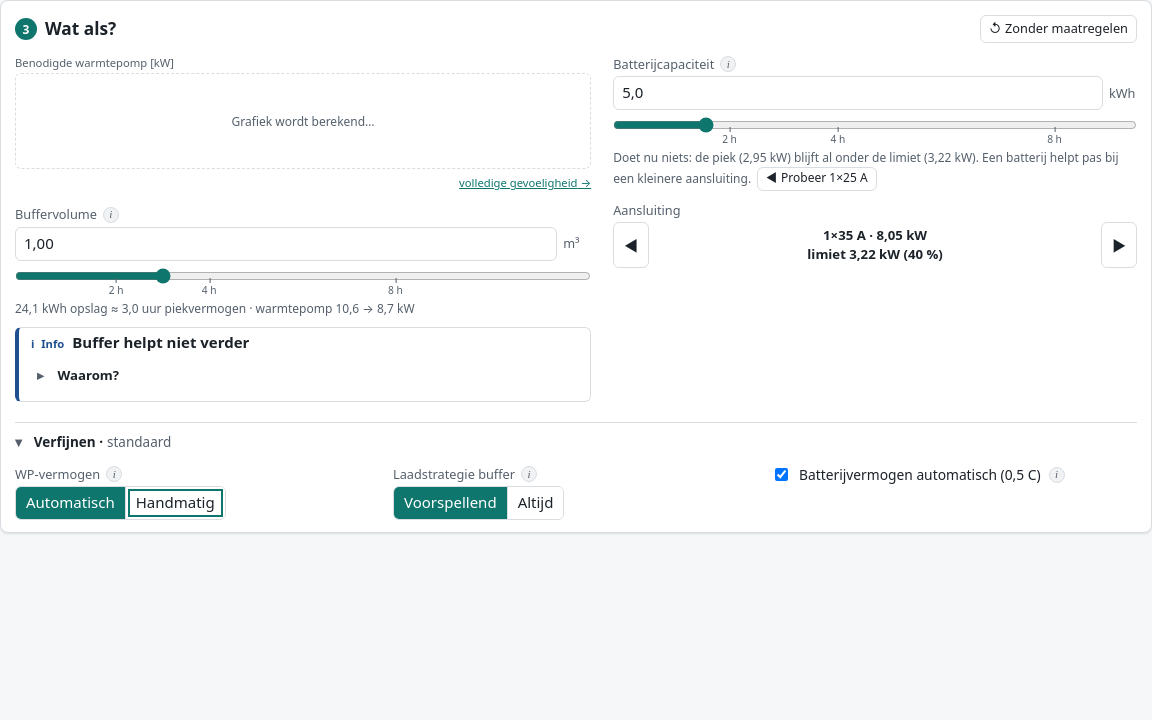
it: Wat als?: Verfijnen › ingeklapt met badge; WP-vermogen, laadstrategie en batterijvermogen met de oude labels
Check: the heading "Verfijnen · standaard" is shown, box [34,433,171,451]
Check: the element named "WP-vermogen" is shown, box [15,486,226,520]
Click the button "Handmatig".
click(175, 503)  # box [126,487,225,519]
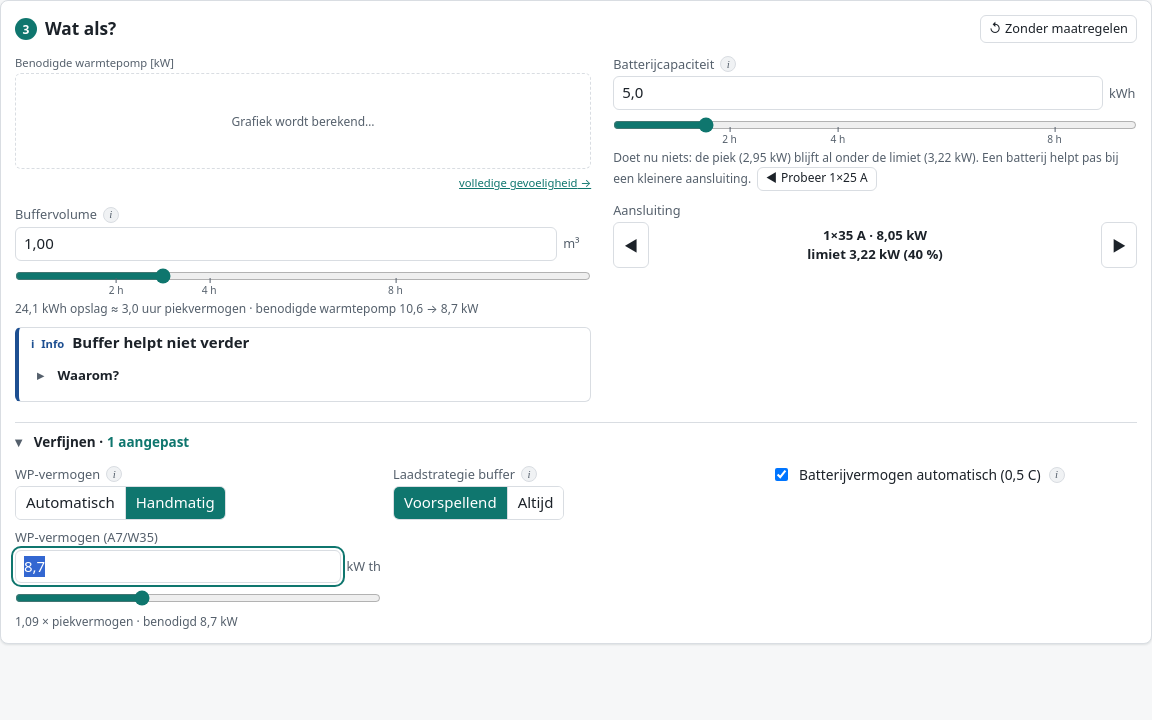
Check: the heading "Verfijnen · 1 aangepast" is shown, box [34,433,189,451]
Click the checkbox labelled "Batterijvermogen automatisch (0,5 C)".
click(782, 475)  # box [775,468,788,481]
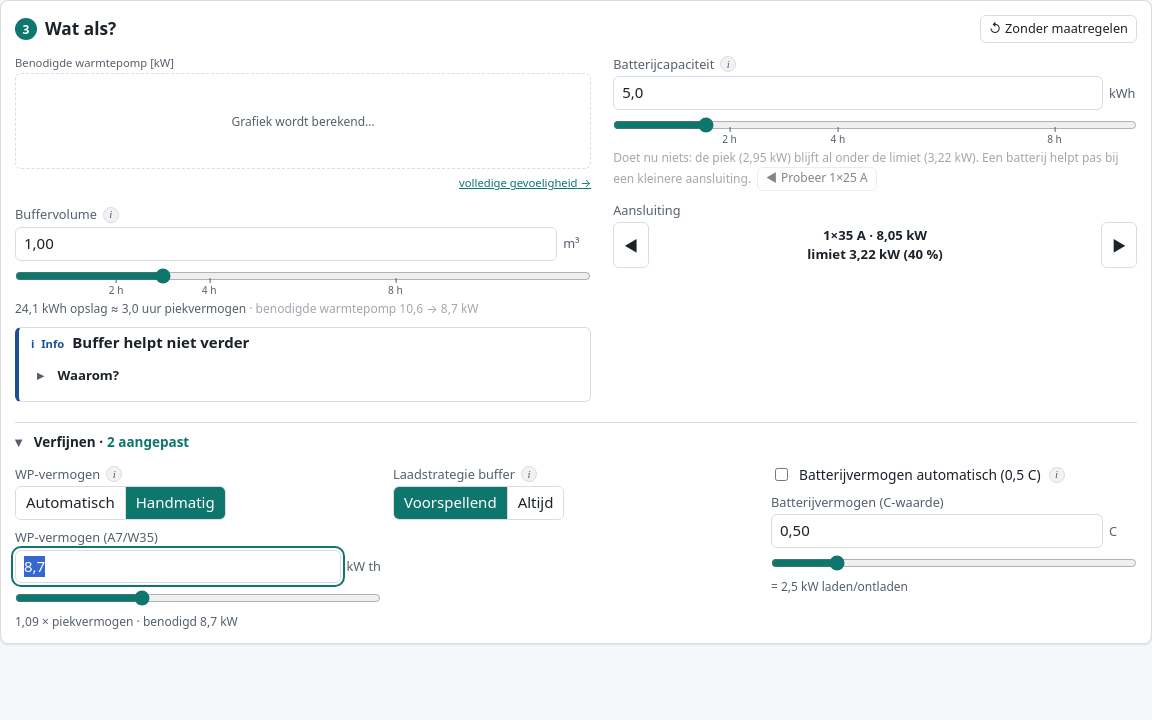
Check: the field labelled "Batterijvermogen (C-waarde)" is shown, box [771,514,1103,548]
Click the button "Altijd".
click(536, 503)  # box [508,487,563,519]
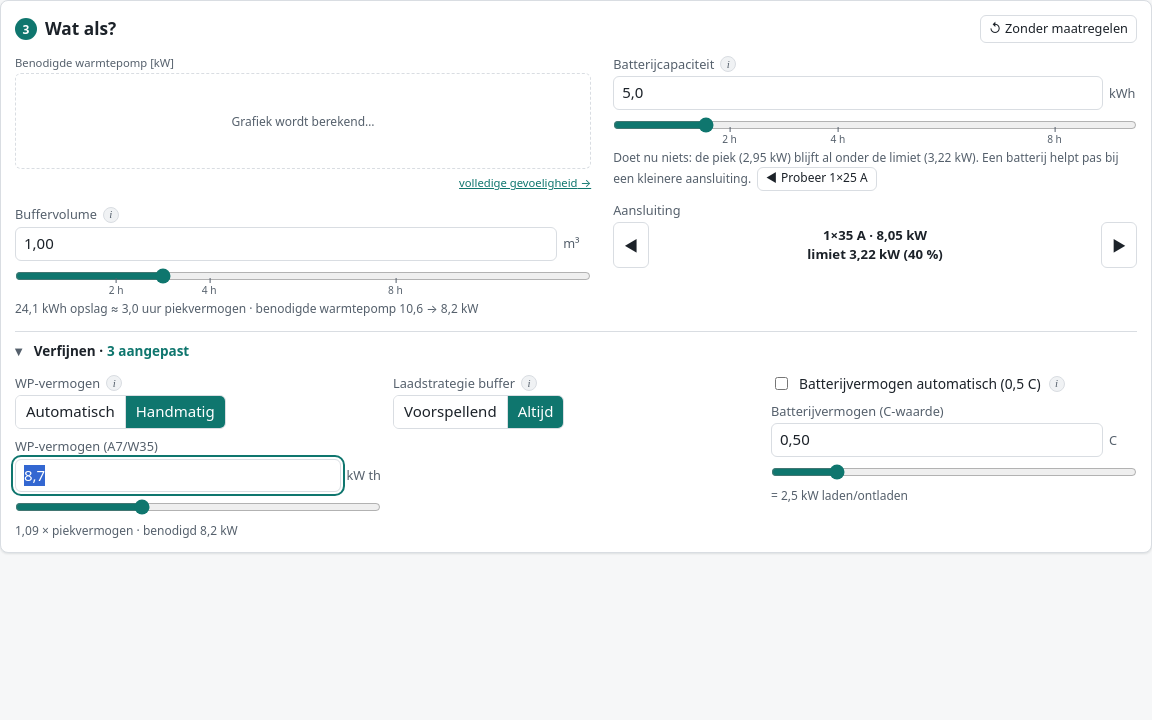
Check: the heading "Verfijnen · 3 aangepast" is shown, box [34,342,189,360]
